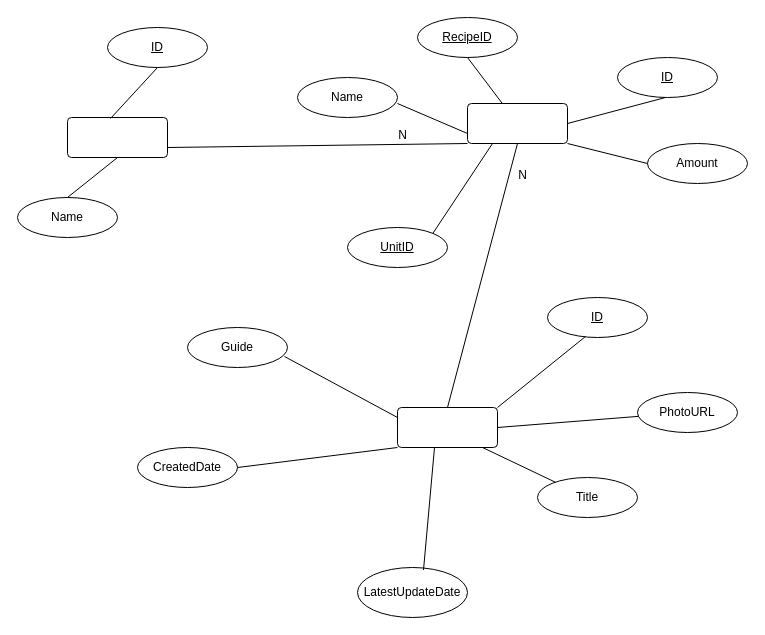
The diagram is 765 pixels wide and 635 high, and some of its shapes have lost their labels. Here are the shapes that lost their labels. From the top down, the centre of each, then its label:
point 117,137: Unit
point 517,123: Ingredient
point 447,427: Recipe
